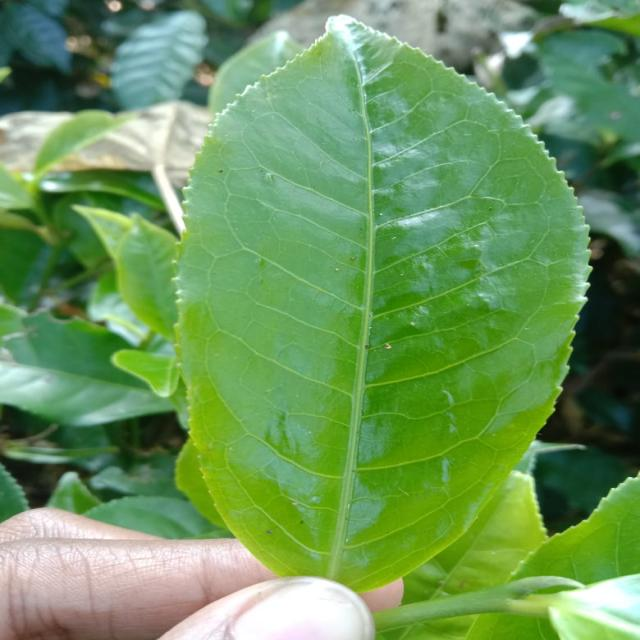Category B(2-4 days): (170, 1, 598, 606)
